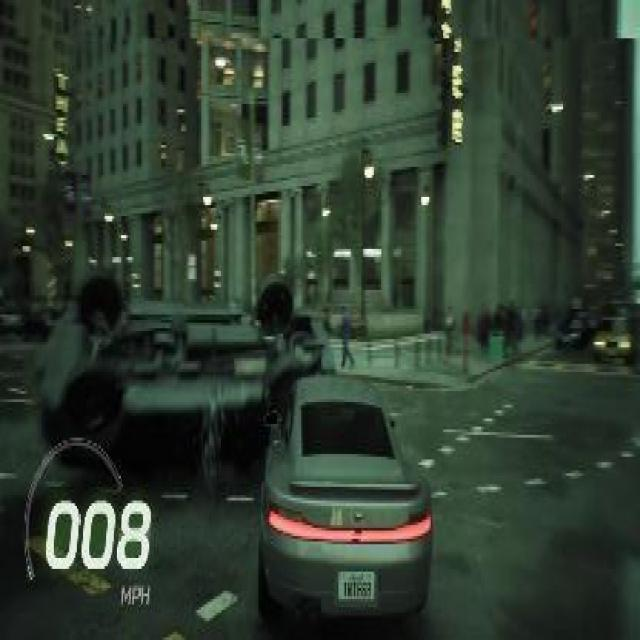accident: (44, 243, 433, 638)
